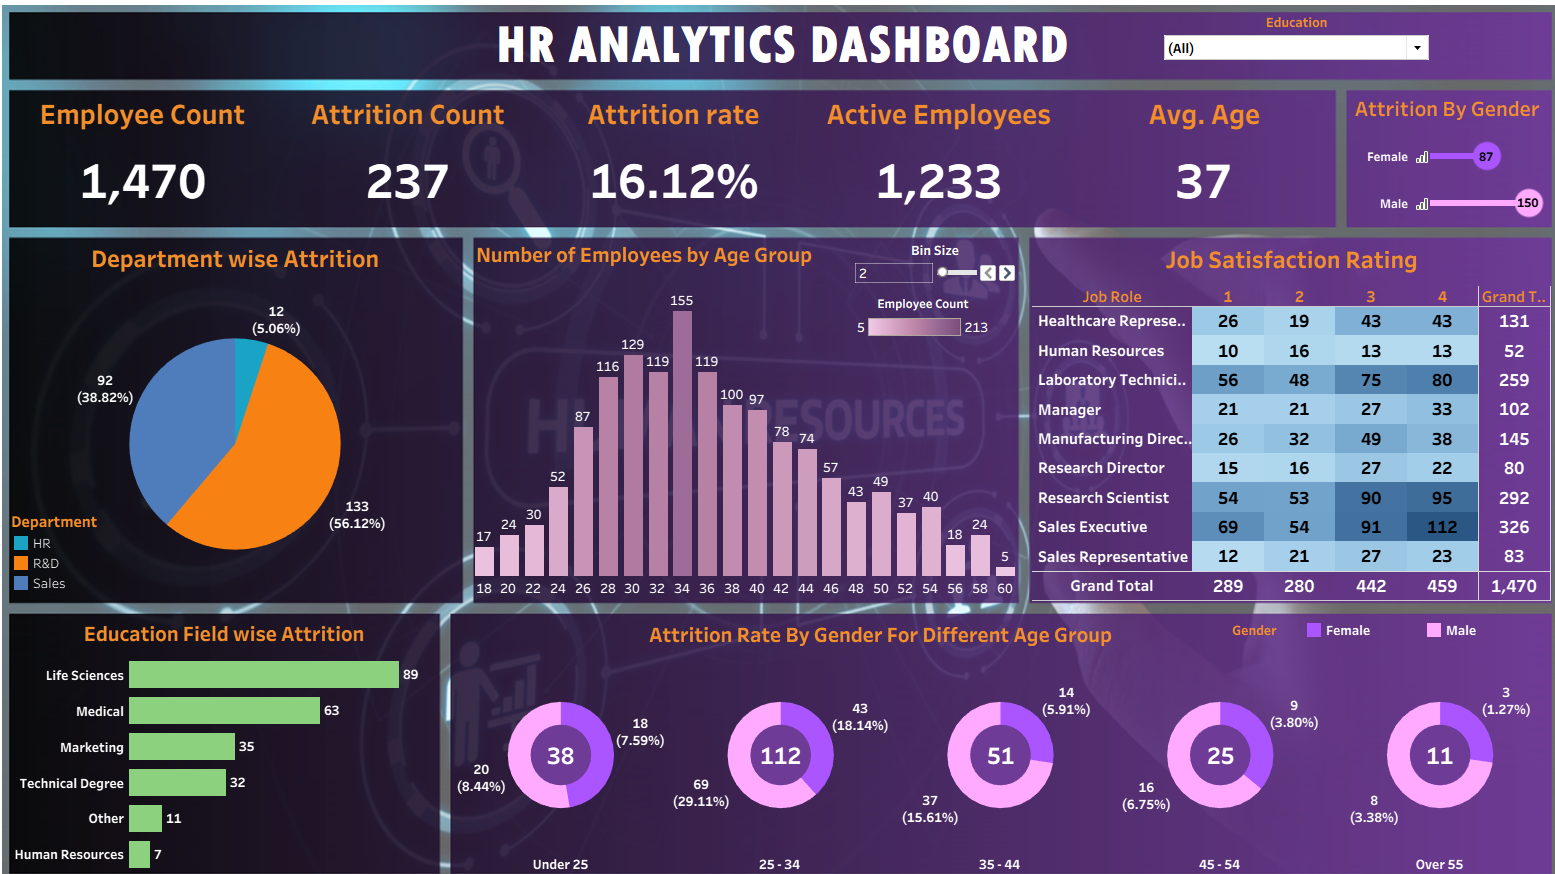

Layout of this report page (visuals, bound fields, positions):
{"tool":"tableau","page":{"name":"Dashboard 1","canvas":[1580,900],"ordinal":0},"visuals":[{"type":"image","param":"C:/Users/meary/OneDrive/Desktop/HR background.png","box":[8,8,1564,884]},{"type":"text","box":[17,19,1550,66]},{"type":"filter","title":"Education Field wise Attrition","param":"[federated.0rwkrps1kcmann1gjipz2084jt77].[none:Education:nk]","box":[1171,20,271,64]},{"type":"worksheet","title":"Attrition by Gender","mark":"Automatic","rows":["Gender"],"cols":["Calculation_158470458565881856","Calculation_158470458565881856"],"box":[1356,97,202,136]},{"type":"worksheet","title":"KPI","mark":"Automatic","box":[20,99,1327,133]},{"type":"worksheet","title":"Number of Employees by Age Group","mark":"Automatic","rows":["Employee Count"],"cols":["Age (bin)"],"box":[482,243,546,367]},{"type":"worksheet","title":"Department wise Attrition","mark":"Pie","box":[19,245,452,365]},{"type":"worksheet","title":"Job Satisfaction Rating","mark":"Square","rows":["Job Role"],"cols":["Job Satisfaction"],"box":[1042,246,519,362]},{"type":"parameter","param":"[Parameters].[Parameter 1]","box":[862,248,166,61]},{"type":"legend","title":"Number of Employees by Age Group","param":"[federated.0rwkrps1kcmann1gjipz2084jt77].[sum:Employee Count:qk]","box":[863,302,140,55]},{"type":"legend","title":"Department wise Attrition","param":"[federated.0rwkrps1kcmann1gjipz2084jt77].[none:Department:nk]","box":[21,518,87,88]},{"type":"worksheet","title":"Education Field wise Attrition","mark":"Automatic","rows":["Education Field"],"cols":["Calculation_158470458565881856"],"box":[19,622,430,257]},{"type":"worksheet","title":"Attrition Rate By Gender For Different Age Group","mark":"Pie","rows":["Calculation_669066066682884097","Calculation_669066066682884097"],"cols":["CF_age band"],"box":[461,623,1099,258]},{"type":"legend","title":"Attrition Rate By Gender For Different Age Group","param":"[federated.0rwkrps1kcmann1gjipz2084jt77].[none:Gender:nk]","box":[1242,627,315,38]}]}

Visuals, with their boxes in screenshot pixels (x1, y1, x2, y2), scaled from the page's 1580x900 canvas onto the 1555x874 screenshot:
image: [8, 8, 1547, 866]
text: [17, 18, 1542, 83]
"Education Field wise Attrition" filter: [1152, 19, 1419, 82]
"Attrition by Gender" worksheet: [1335, 94, 1533, 226]
"KPI" worksheet: [20, 96, 1326, 225]
"Number of Employees by Age Group" worksheet: [474, 236, 1012, 592]
"Department wise Attrition" worksheet (Pie marks): [19, 238, 464, 592]
"Job Satisfaction Rating" worksheet (Square marks): [1026, 239, 1536, 590]
parameter: [848, 241, 1012, 300]
"Number of Employees by Age Group" legend: [849, 293, 987, 347]
"Department wise Attrition" legend: [21, 503, 106, 588]
"Education Field wise Attrition" worksheet: [19, 604, 442, 854]
"Attrition Rate By Gender For Different Age Group" worksheet (Pie marks): [454, 605, 1535, 856]
"Attrition Rate By Gender For Different Age Group" legend: [1222, 609, 1532, 646]
